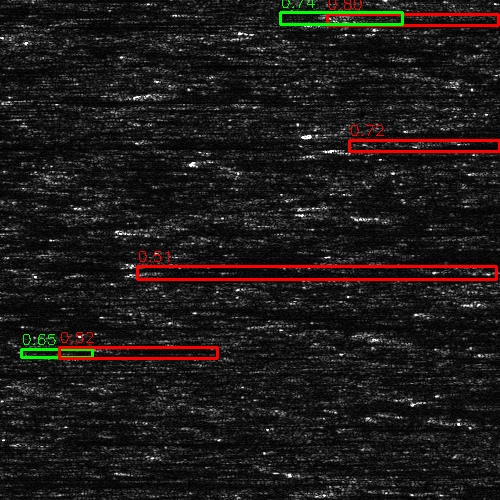rock: (83, 267, 218, 278), (109, 224, 202, 233), (297, 124, 350, 137), (325, 142, 356, 155), (151, 89, 182, 98), (10, 438, 63, 443), (0, 243, 19, 248), (271, 469, 302, 472)
shadow: (151, 267, 471, 278), (167, 89, 500, 98), (0, 290, 121, 311), (324, 124, 500, 137), (341, 142, 423, 155), (0, 479, 210, 484), (37, 438, 198, 443), (156, 224, 235, 233), (0, 243, 140, 248), (0, 61, 60, 70), (287, 469, 372, 472)
